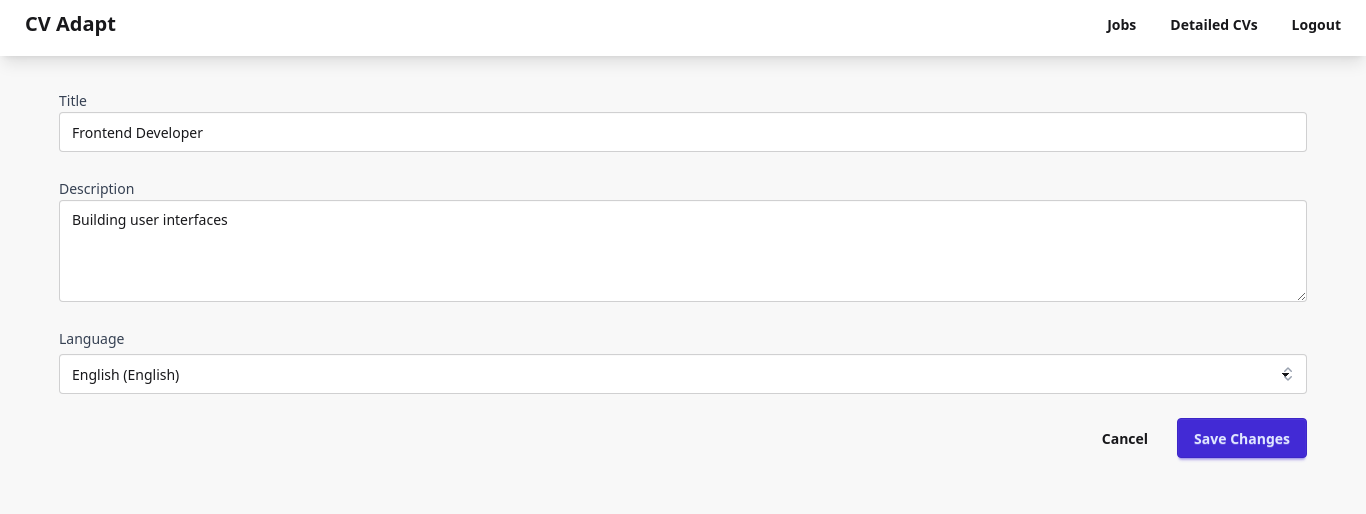
Job Form Operations › should handle update error and show error message
Note: Update title
Replace the text in the field labelled "Title" with "Senior Frontend Developer" at point(683, 132), box x1=59 y1=112 x2=1307 y2=152
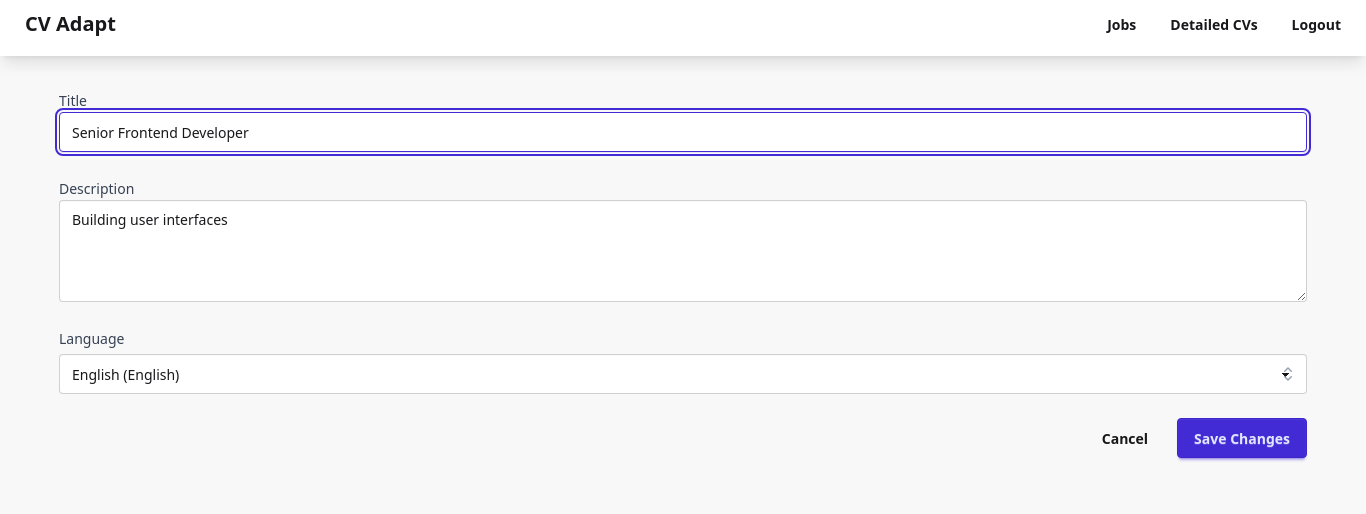
Note: Submit form
Click the button "Save Changes" at point(1242, 438), box x1=1177 y1=418 x2=1307 y2=458
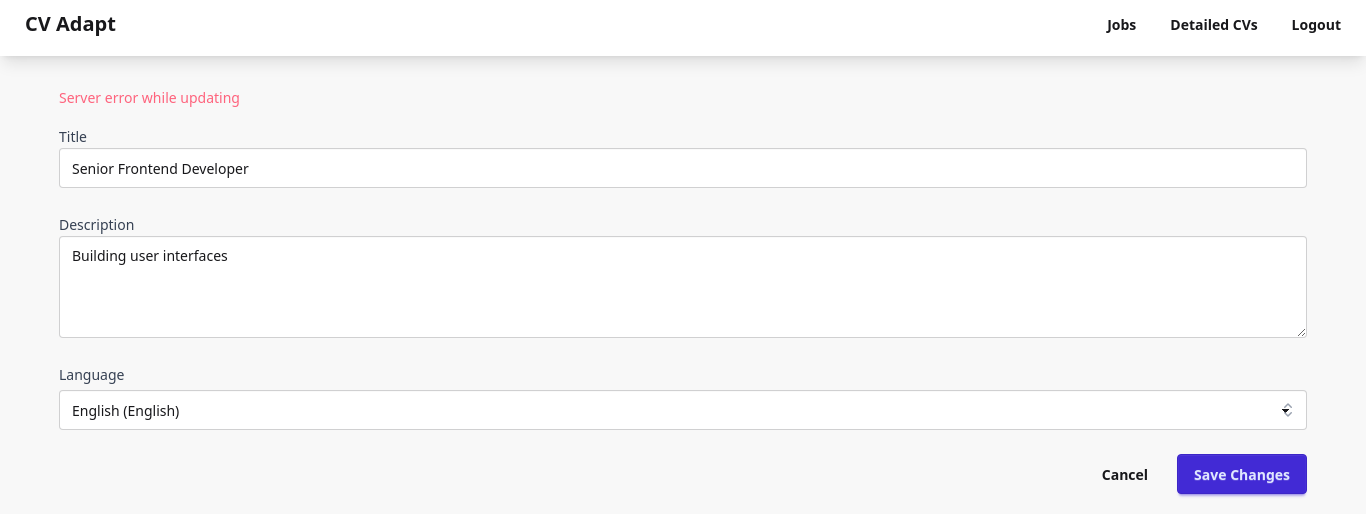
Check: the button "Save Changes" is shown, box x1=1177 y1=454 x2=1307 y2=494
Check: the message reads "Server error while updating", box x1=59 y1=88 x2=240 y2=107
